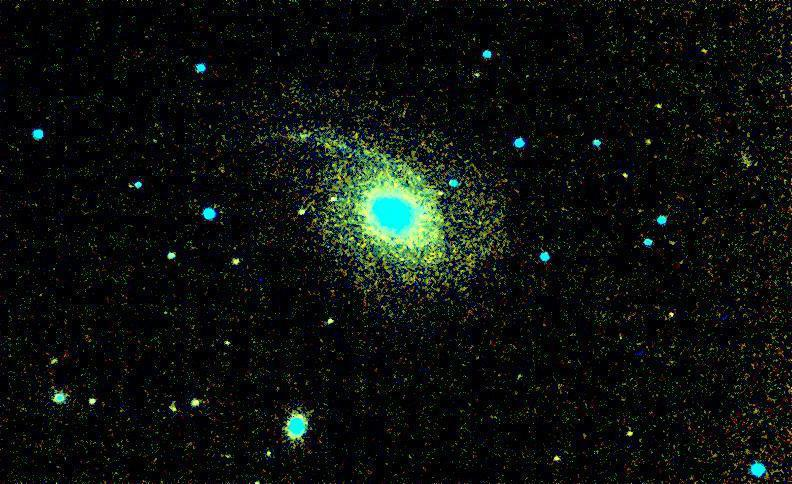star: (687, 30, 717, 60)
